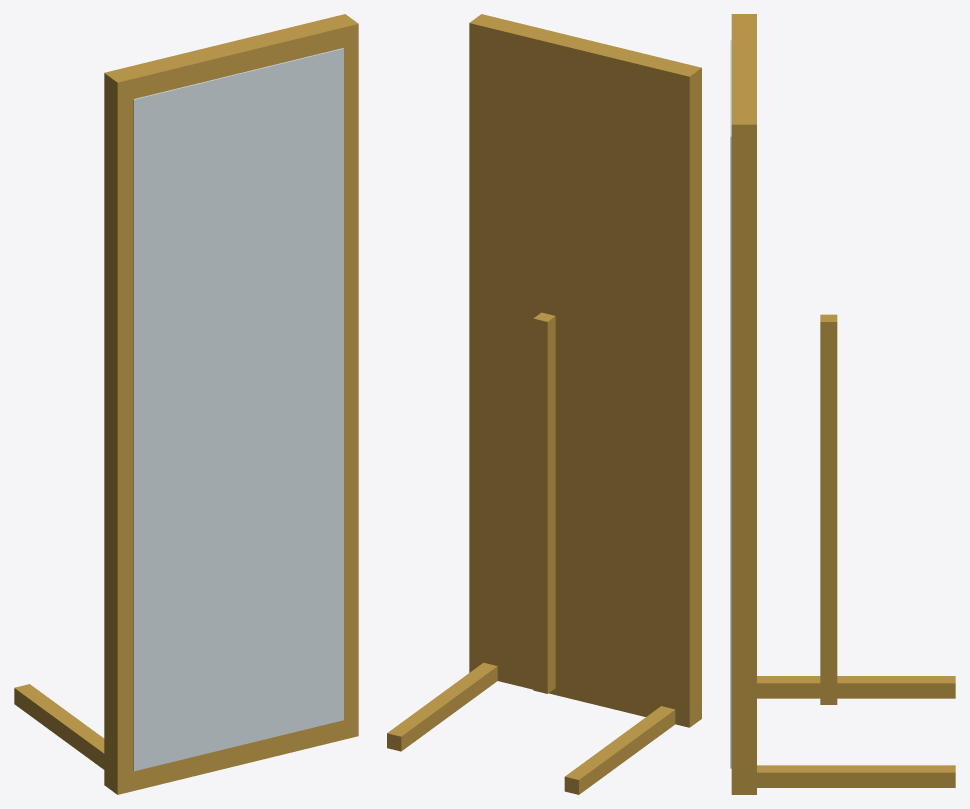
The model's file is mirror_full.glb.
3 views of the same model, side by side, from view 1: azimuth 30°, elevation 25°; view 2: azimuth 150°, elevation 25°; view 3: azimuth 270°, elevation 25° (orthographic). The views are drawn at different scales.
Visible parts, largest first — view 1: mirror_full; view 2: mirror_full; view 3: mirror_full.
Boxes of the visible parts, x1,y1,x2,y2 form: mirror_full: (14, 14, 358, 794); mirror_full: (387, 14, 701, 794); mirror_full: (730, 14, 955, 794).
Size of the model in its own units: 0.62 by 1.75 by 0.5335.
